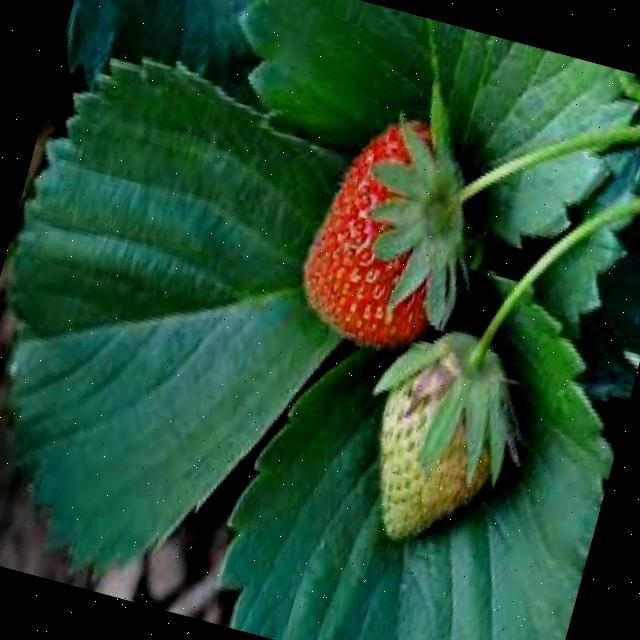ripe: (289, 101, 487, 359)
unripe: (351, 325, 526, 564)
